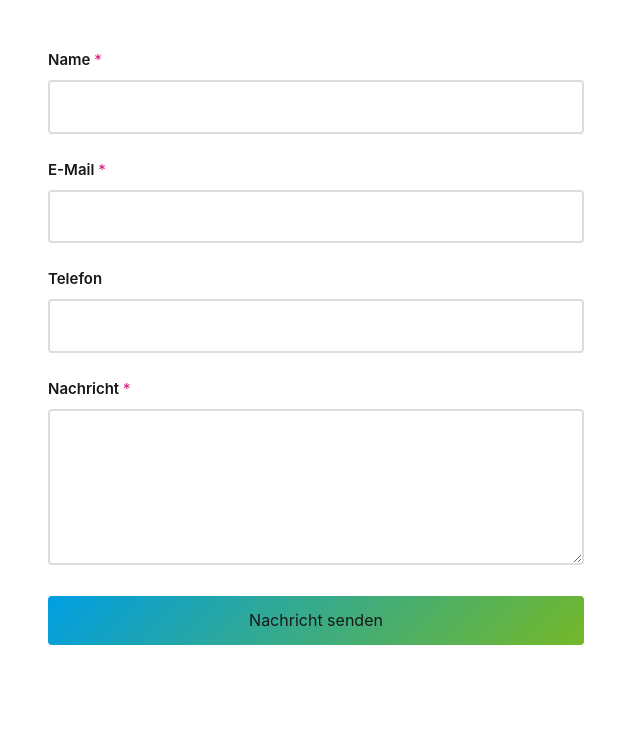
ContactForm › Formularübermittlung › zeigt Erfolgsmeldung nach erfolgreicher Übermittlung
This screenshot has width=633, height=734.
Type "Maria Musterfrau" into the field with id "name".
click(316, 107); type("Maria Musterfrau")  # box [48,80,584,134]
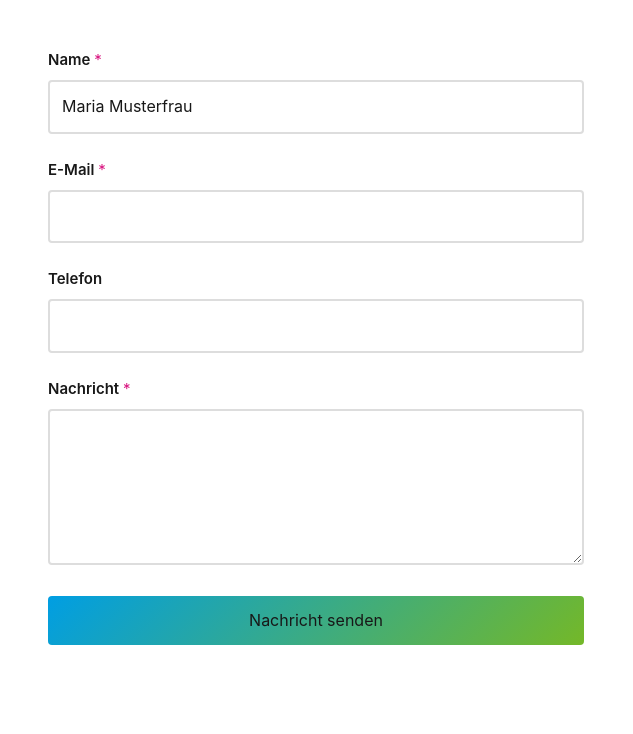
Type "maria@example.com" into the field with id "email".
click(316, 216); type("maria@example.com")  # box [48,190,584,243]
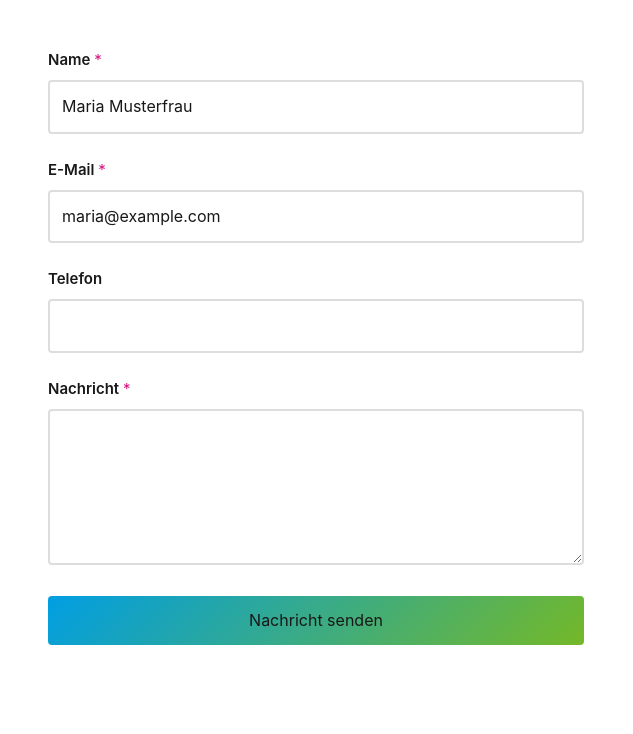
Type "Das ist eine ausreichend lange Testnachricht." into the text box with id "message".
click(316, 487); type("Das ist eine ausreichend lange Testnachricht.")  # box [48,409,584,565]
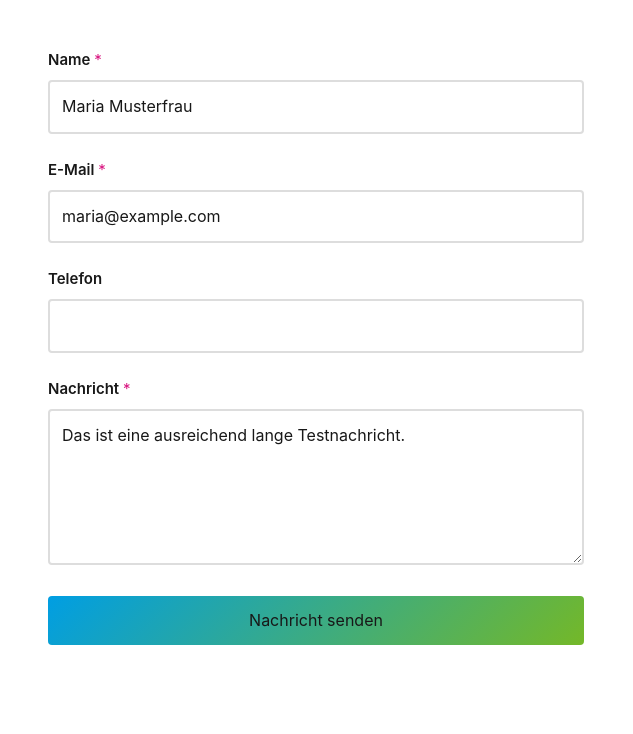
Submit the form
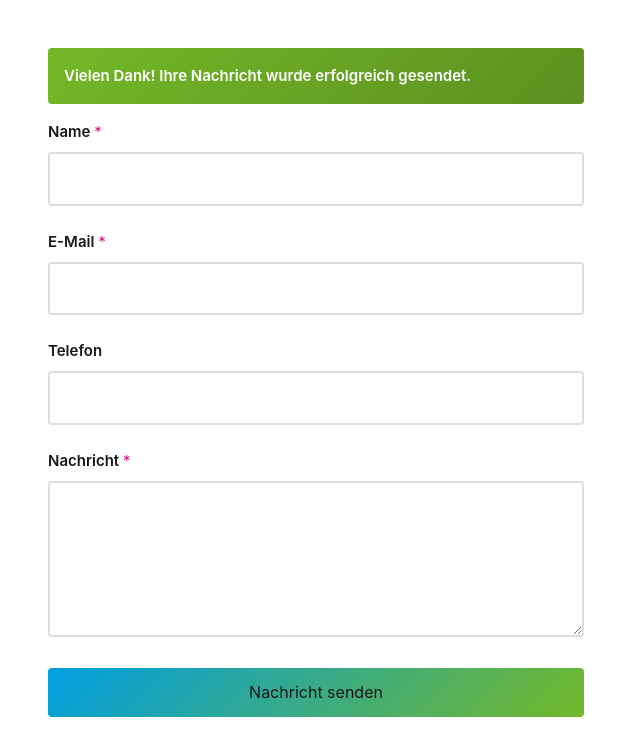
expect the message "Vielen Dank! Ihre Nachricht wurde erfolgreich gesendet." is shown: met, box [48,48,584,104]
